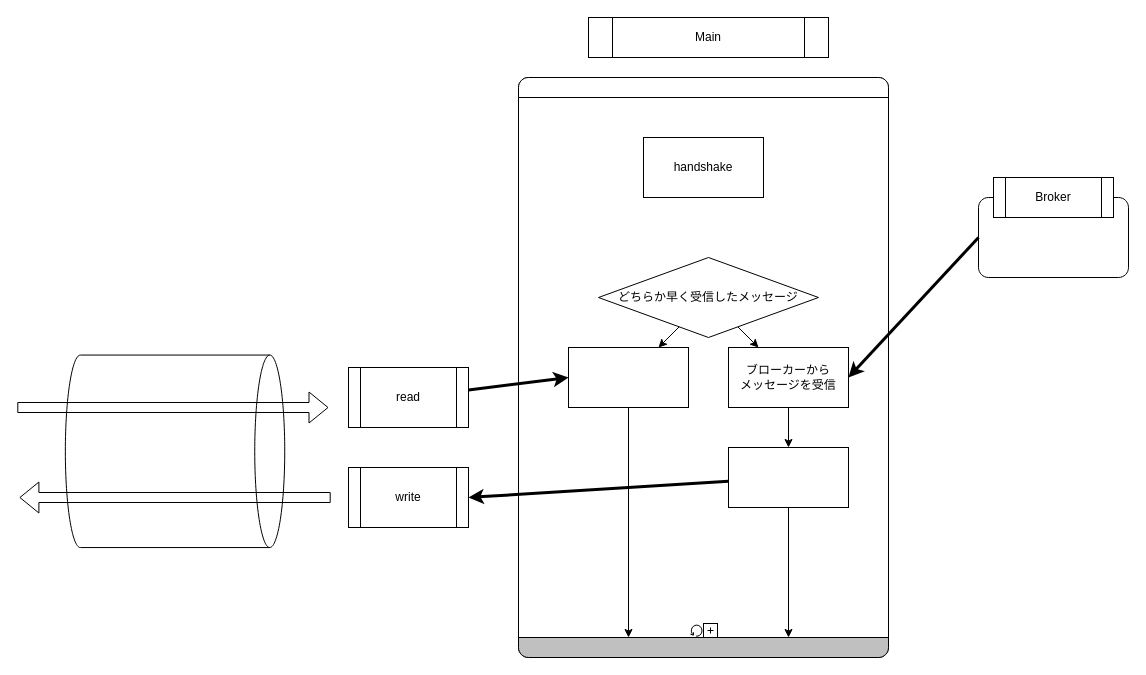
The diagram is 1146 pixels wide and 675 high, and some of its shapes have lost their labels. Each missing label, with the centre of its shape:
"tcp stream" belongs at [174,451].
"リモートから データを受信" belongs at [628,377].
"リモートに パケットを送信" belongs at [788,477].
